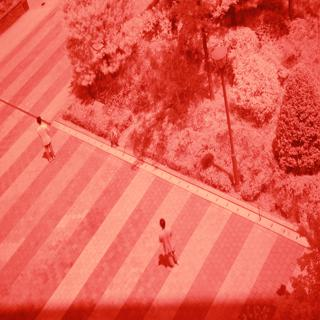person: (31, 113, 63, 173), (152, 214, 180, 275)
